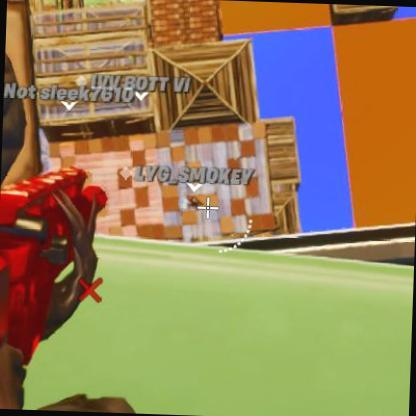person: (182, 190, 204, 208)
